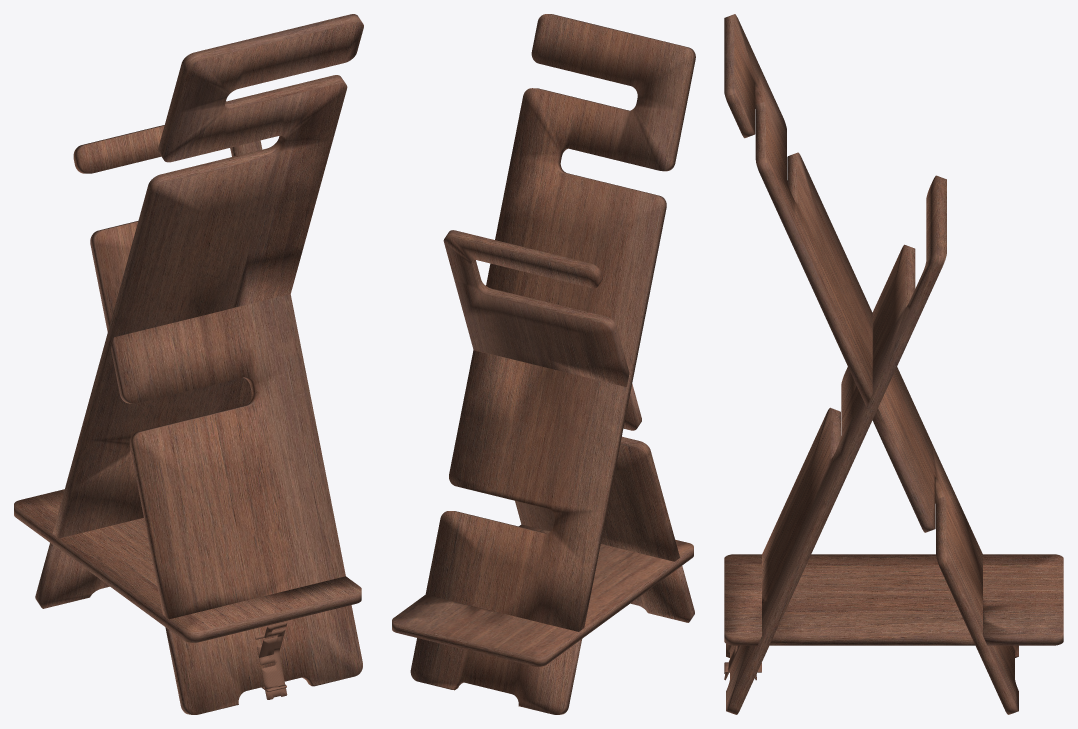
Rendered from panieboze.glb.
3 renders of one model, left to right at view 1: azimuth 30°, elevation 25°; view 2: azimuth 150°, elevation 25°; view 3: azimuth 270°, elevation 25°, orthographic. The views are drawn at different scales.
Visible parts, largest first — view 1: bake, servomuto obj.001; view 2: bake; view 3: bake.
Part boxes in pixels (bbox=[...]): bake: bbox=[14, 14, 363, 714]; servomuto obj.001: bbox=[255, 622, 287, 699]; bake: bbox=[392, 14, 695, 714]; bake: bbox=[724, 14, 1063, 714].
Size of the model in its own units: 313 by 1119 by 551.
1 material, 1 textured.
